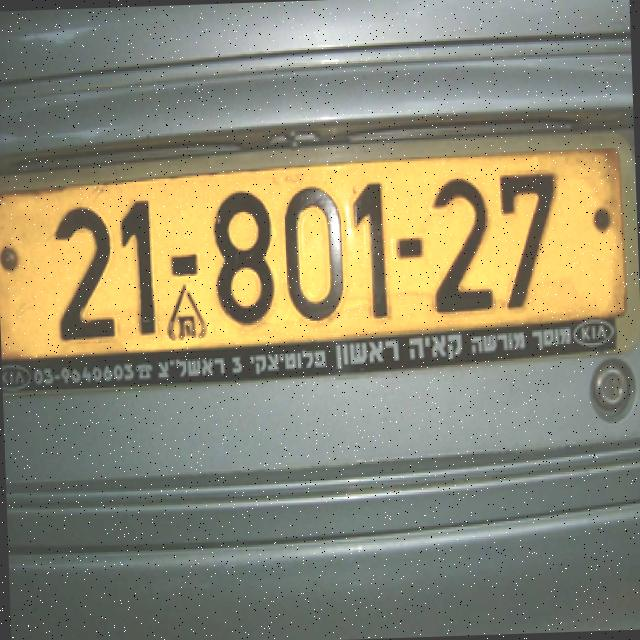Autre: (0, 158, 634, 364)
